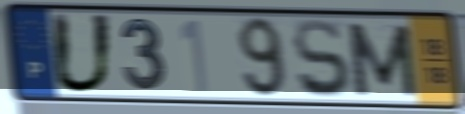1: (178, 18, 210, 95)
3: (118, 15, 169, 95)
9: (233, 15, 288, 100)
M: (343, 20, 421, 99)
S: (290, 16, 354, 101)
U: (49, 10, 116, 97)
